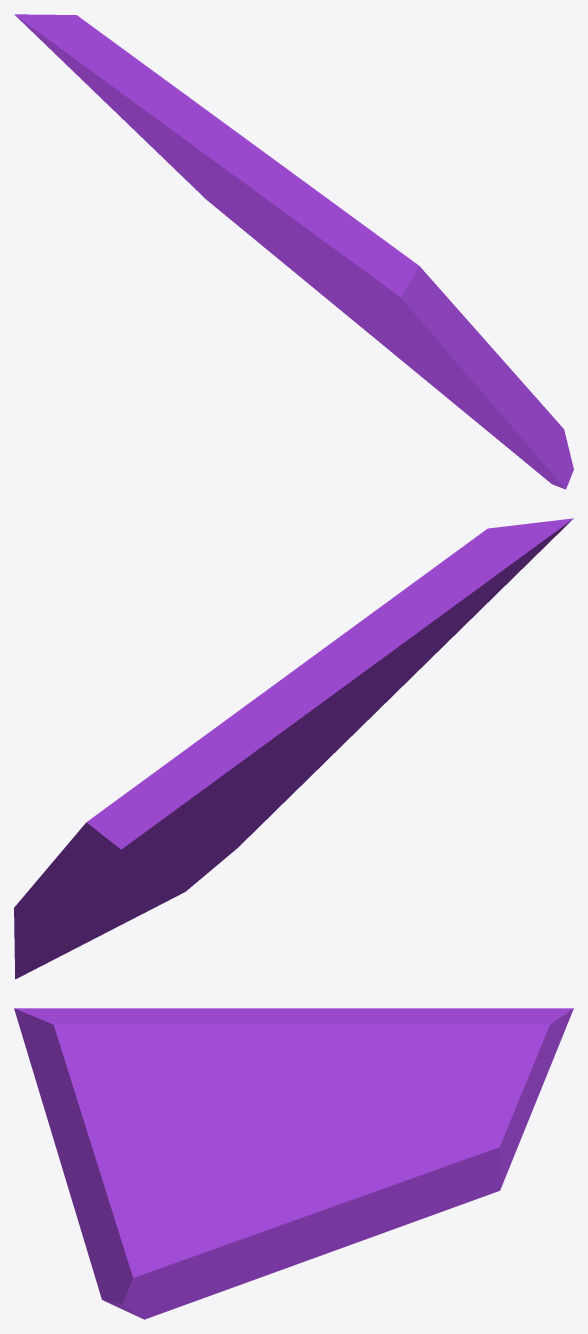
The model's file is Window_82_0_chunks.fbx.
3 renders of one model, top to bottom at view 1: azimuth 30°, elevation 25°; view 2: azimuth 150°, elevation 25°; view 3: azimuth 270°, elevation 25°, orthographic. The views are drawn at different scales.
Visible parts, largest first — view 1: Window_82_0_0, Window_82_0_6, Window_82_0_9, Window_82_0_8, Window_82_0_2, Window_82_0_5, Window_82_0_3, Window_82_0_7; view 2: Window_82_0_0, Window_82_0_6, Window_82_0_8, Window_82_0_9, Window_82_0_5, Window_82_0_3, Window_82_0_2, Window_82_0_7; view 3: Window_82_0_0, Window_82_0_6, Window_82_0_8, Window_82_0_1, Window_82_0_5, Window_82_0_7, Window_82_0_9, Window_82_0_2, Window_82_0_3, Window_82_0_4.
Part boxes in pixels (bbox=[...]): Window_82_0_0: bbox=[235, 169, 554, 475]; Window_82_0_6: bbox=[14, 14, 225, 182]; Window_82_0_9: bbox=[161, 122, 328, 277]; Window_82_0_8: bbox=[72, 70, 313, 283]; Window_82_0_2: bbox=[437, 375, 573, 489]; Window_82_0_5: bbox=[305, 281, 441, 381]; Window_82_0_3: bbox=[344, 313, 530, 466]; Window_82_0_7: bbox=[261, 226, 343, 294]; Window_82_0_0: bbox=[219, 518, 573, 825]; Window_82_0_6: bbox=[50, 694, 293, 887]; Window_82_0_8: bbox=[14, 825, 189, 979]; Window_82_0_9: bbox=[179, 647, 379, 843]; Window_82_0_5: bbox=[65, 823, 236, 953]; Window_82_0_3: bbox=[83, 843, 217, 944]; Window_82_0_2: bbox=[176, 824, 259, 896]; Window_82_0_7: bbox=[102, 802, 239, 921]; Window_82_0_0: bbox=[14, 1008, 253, 1279]; Window_82_0_6: bbox=[333, 1008, 573, 1117]; Window_82_0_8: bbox=[382, 1062, 551, 1227]; Window_82_0_1: bbox=[187, 1021, 287, 1199]; Window_82_0_5: bbox=[188, 1163, 398, 1242]; Window_82_0_7: bbox=[274, 1093, 394, 1214]; Window_82_0_9: bbox=[249, 1008, 359, 1102]; Window_82_0_2: bbox=[96, 1200, 200, 1319]; Window_82_0_3: bbox=[166, 1241, 358, 1311]; Window_82_0_4: bbox=[180, 1223, 275, 1286].
Size of the model in its own units: 375 by 450 by 1010.
